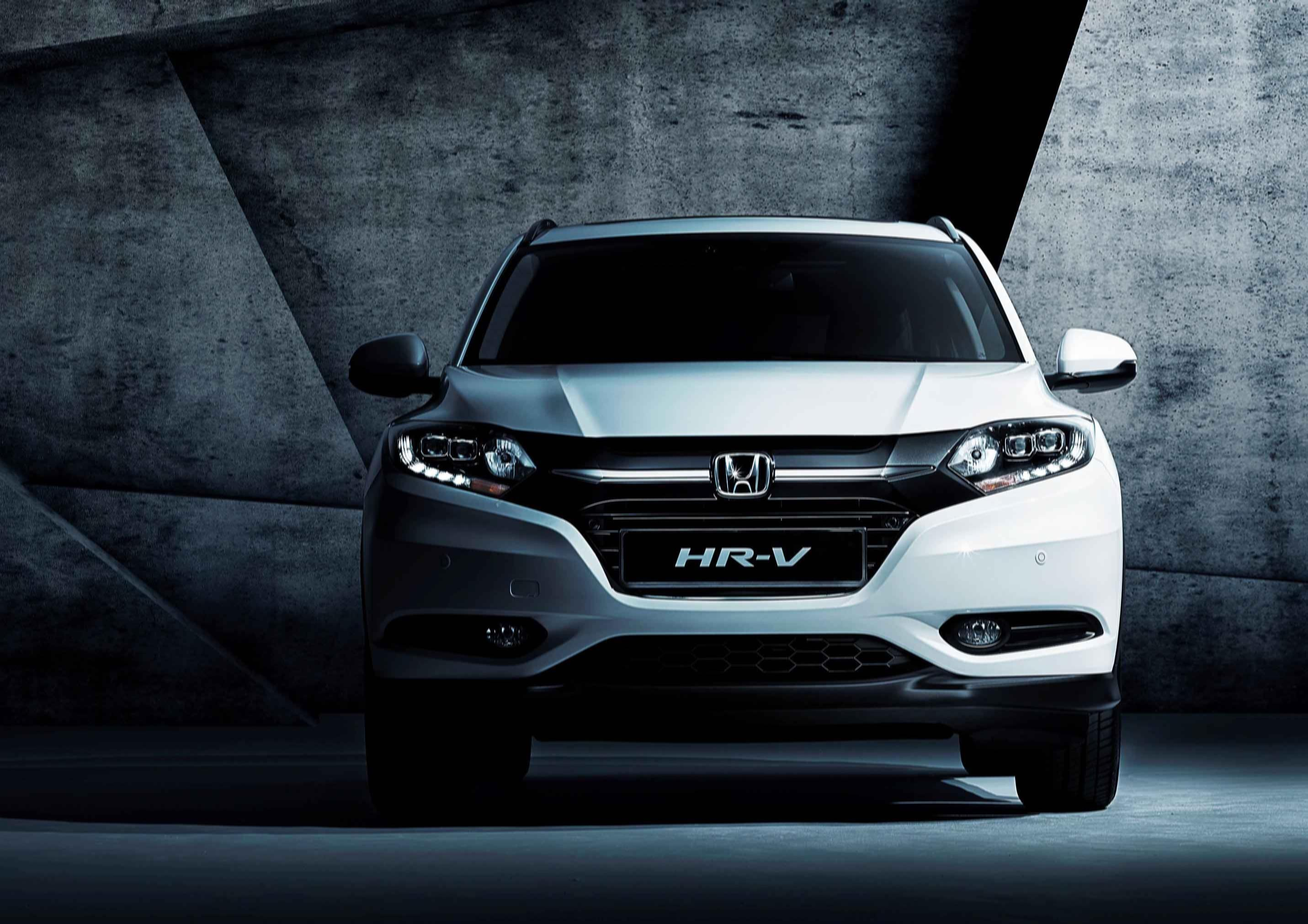Car hood: (396, 353, 1095, 445)
Front bumper: (351, 465, 1138, 730)
Headlight - -L-: (934, 408, 1099, 500)
Headlight - -R-: (379, 413, 539, 503)
Side mirror - -L-: (1036, 321, 1146, 402)
Side mirror - -R-: (334, 324, 448, 405)
